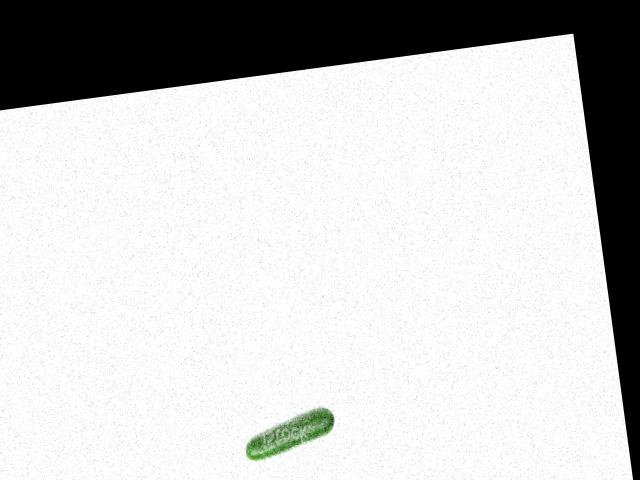cucumber: (241, 406, 339, 461)
